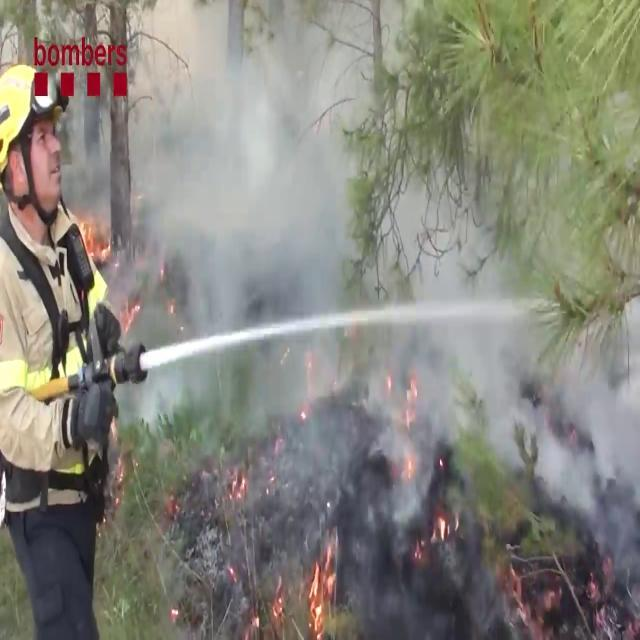Fire: (303, 530, 341, 637)
Smoke: (104, 3, 375, 350), (396, 212, 640, 514)
